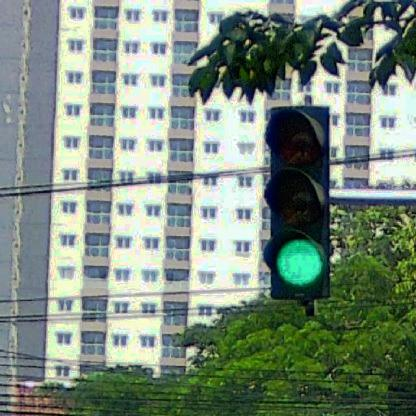Traffic Light -Green-: (266, 106, 332, 299)
